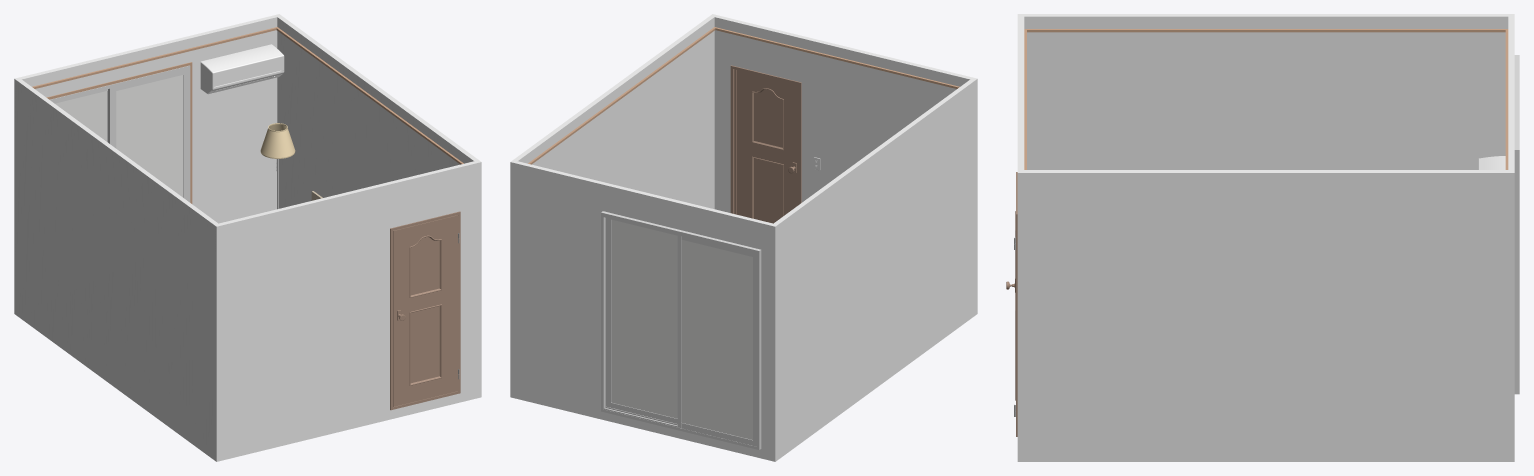
The model's file is 173_寝室view.glb.
3 views of the same model, side by side, from view 1: azimuth 30°, elevation 25°; view 2: azimuth 150°, elevation 25°; view 3: azimuth 270°, elevation 25° (orthographic). The views are drawn at different scales.
Visible parts, largest first — view 1: 南壁, 西壁, 北壁, 東壁, 扉, 右, Body1, 左, スタンドライト; view 2: 西壁, 北壁, 南壁, 東壁, 左, 右, 扉; view 3: 東壁, 西壁, 北壁, 南壁.
Part boxes in pixels (bbox=[...]): 南壁: bbox=[214, 160, 481, 461]; 西壁: bbox=[17, 79, 217, 459]; 北壁: bbox=[14, 14, 281, 315]; 東壁: bbox=[276, 16, 478, 208]; 扉: bbox=[393, 215, 459, 406]; 右: bbox=[108, 69, 187, 200]; Body1: bbox=[200, 44, 284, 94]; 左: bbox=[53, 89, 107, 142]; スタンドライト: bbox=[260, 123, 295, 209]; 西壁: bbox=[774, 79, 974, 459]; 北壁: bbox=[510, 160, 777, 461]; 南壁: bbox=[710, 14, 977, 315]; 東壁: bbox=[513, 16, 715, 208]; 左: bbox=[677, 235, 756, 446]; 右: bbox=[606, 218, 677, 423]; 扉: bbox=[736, 70, 798, 223]; 東壁: bbox=[1024, 170, 1508, 461]; 西壁: bbox=[1024, 14, 1508, 169]; 北壁: bbox=[1505, 14, 1519, 461]; 南壁: bbox=[1014, 14, 1026, 461].
Bounding box in the file's own units: 2.83 × 2.4 × 3.86.
